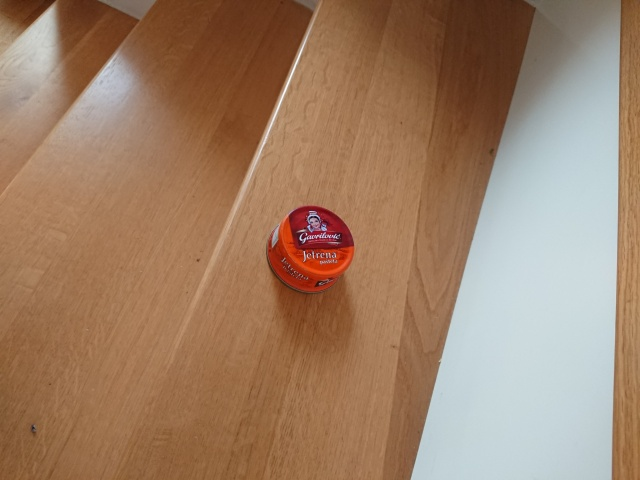Gavrilovic Pork Liver Pate 100g: (262, 203, 357, 296)
